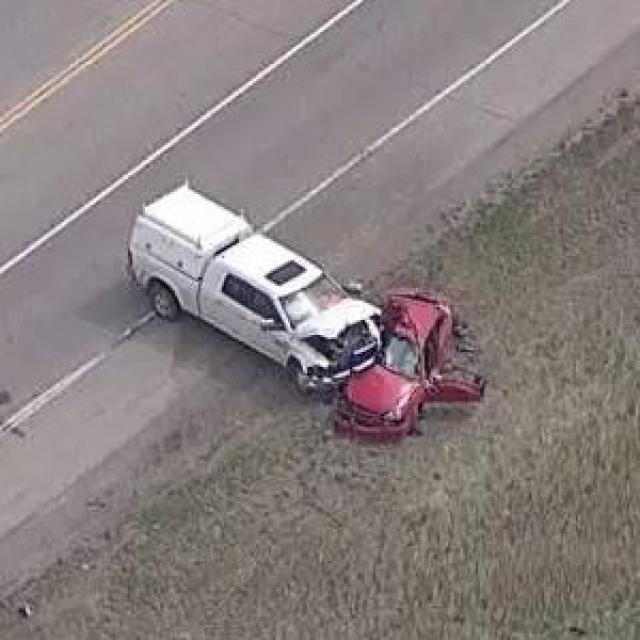traffic_incident: (136, 173, 461, 431)
